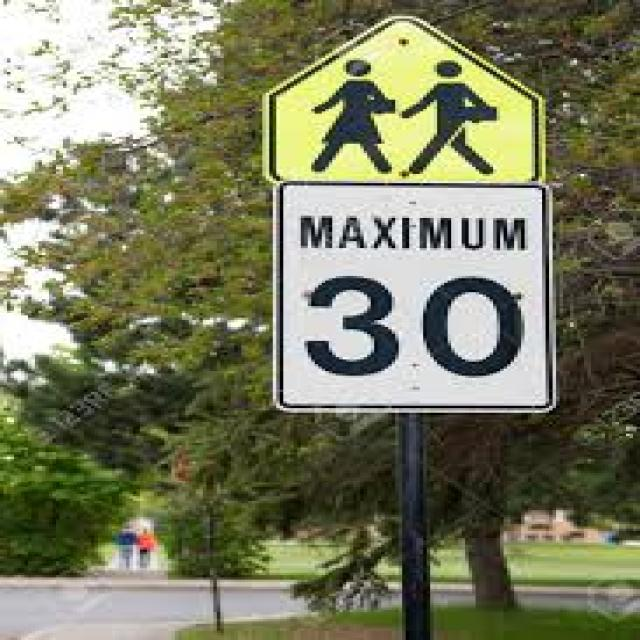Speed limit 30: (260, 255, 545, 406)
